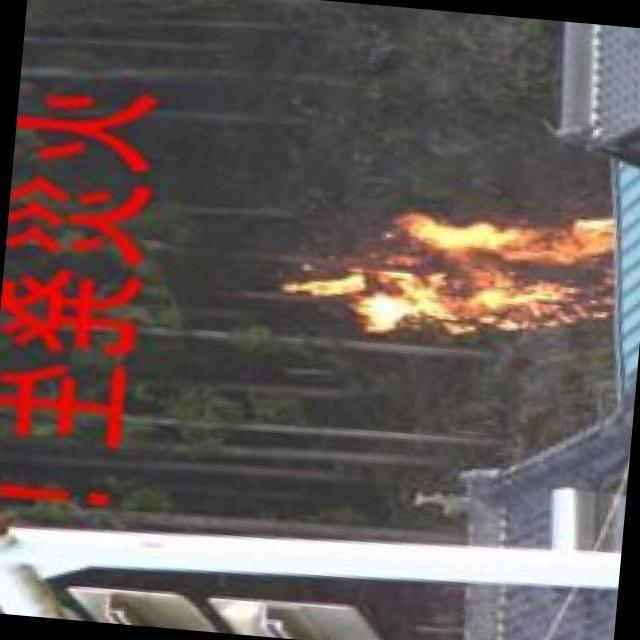Fire: (281, 189, 639, 372)
